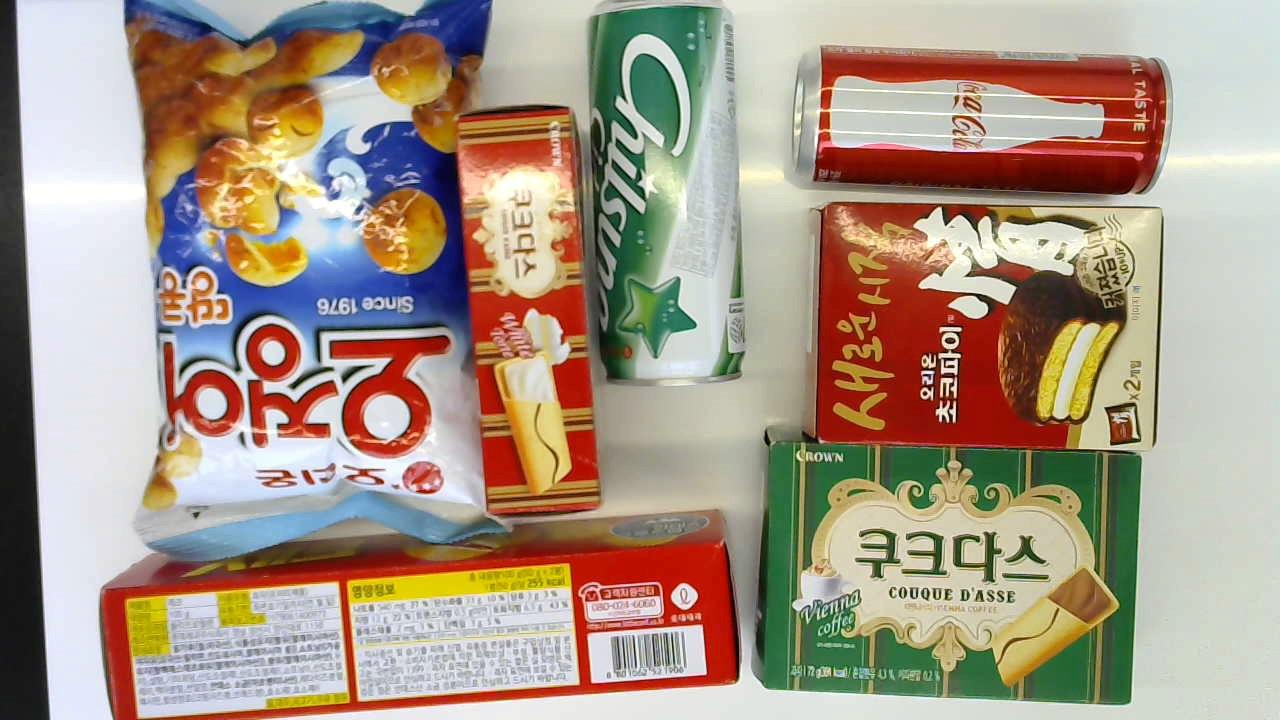chocopie: (803, 205, 1164, 444)
cidar: (586, 0, 751, 387)
coke: (786, 40, 1173, 199)
couque_coffee: (750, 429, 1144, 706)
couque_white: (452, 100, 601, 517)
squid_peanut: (113, 1, 508, 546)
zec: (103, 505, 741, 720)
